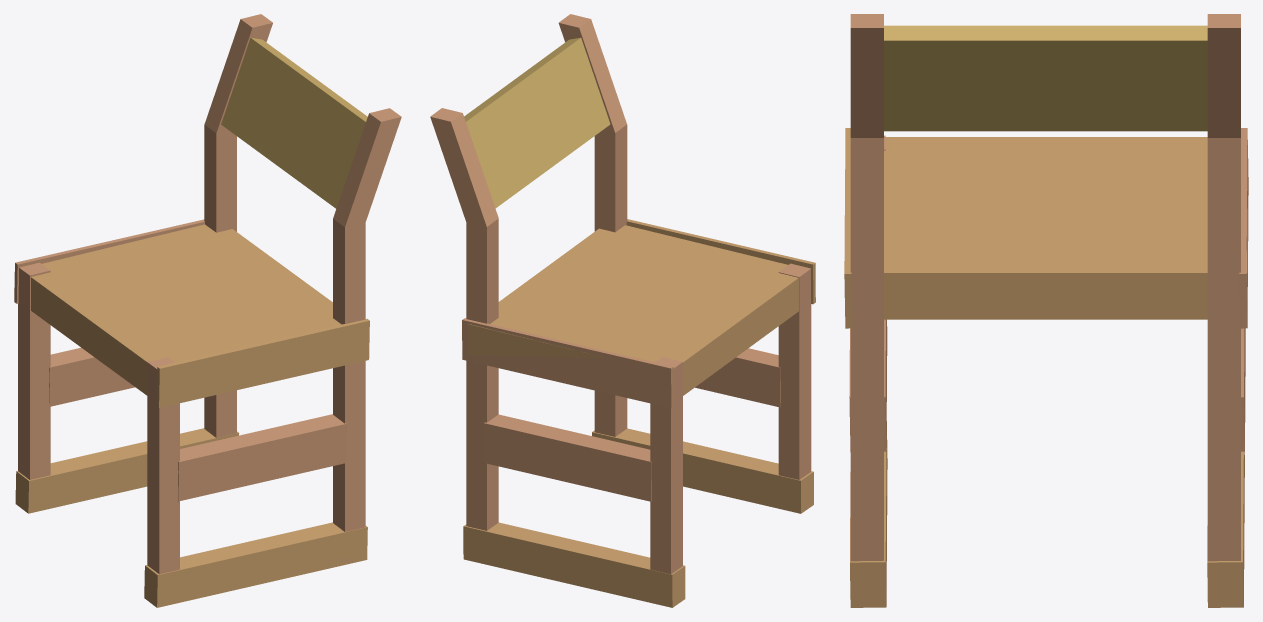
File: colored-chair.dae
The picture shows the model from 3 angles, left to right: view 1: azimuth 30°, elevation 25°; view 2: azimuth 150°, elevation 25°; view 3: azimuth 270°, elevation 25°; orthographic projection. The views are drawn at different scales.
Visible parts, largest first — view 1: Cube; view 2: Cube; view 3: Cube.
Part boxes in pixels (x1,y1,x2,y2): Cube: (14, 14, 401, 607); Cube: (430, 14, 815, 607); Cube: (844, 14, 1248, 607).
Size of the model in its own units: 1.18 by 1.22 by 2.
